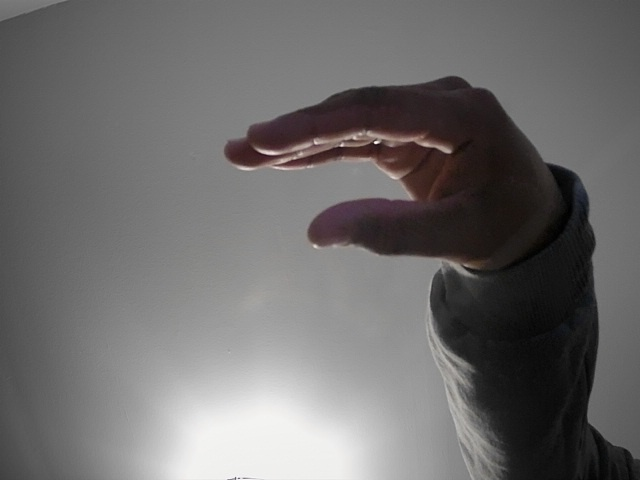No: (180, 53, 580, 289)
